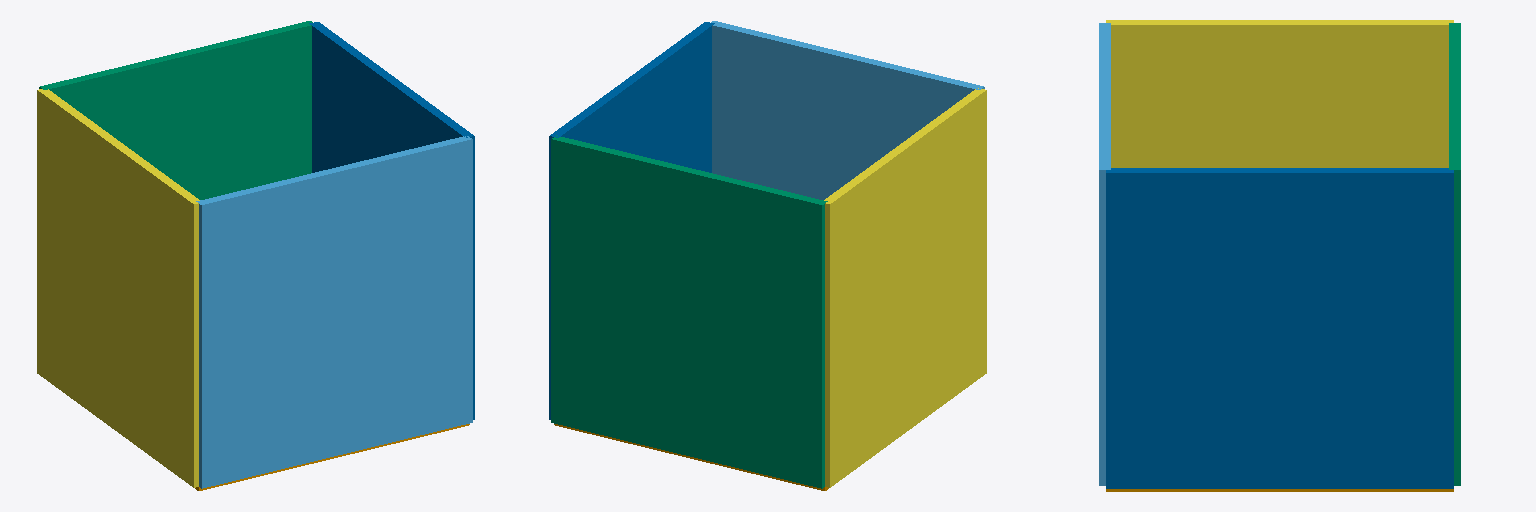
URDF robot description (hollow_box_with_centered_cuboid):
<?xml version="1.0"?>
<robot name="hollow_box_with_centered_cuboid">
  <!-- Base panel -->
  <link name="base_panel">
    <visual>
      <geometry>
        <box size="1.5 1.5 0.05"/>
      </geometry>
    </visual>
  </link>

  <!-- Definition of the side panels -->
  <!-- Each side panel is defined with a slight thickness (0.05 units) -->
  <!-- The panels are positioned to form the sides of the box -->

  <!-- Front panel -->
  <link name="front_panel">
    <visual>
      <geometry>
        <box size="1.5 0.05 1.5"/>
      </geometry>
    </visual>
  </link>

  <!-- Back panel -->
  <link name="back_panel">
    <visual>
      <geometry>
        <box size="1.5 0.05 1.5"/>
      </geometry>
    </visual>
  </link>

  <!-- Left panel -->
  <link name="left_panel">
    <visual>
      <geometry>
        <box size="0.05 1.5 1.5"/>
      </geometry>
    </visual>
  </link>

  <!-- Right panel -->
  <link name="right_panel">
    <visual>
      <geometry>
        <box size="0.05 1.5 1.5"/>
      </geometry>
    </visual>
  </link>
  <!-- Centered cuboid -->
  <link name="centered_cuboid">
    <visual>
      <geometry>
        <box size="0.25 0.25 0.25"/>
      </geometry>
      <material name="blue">
        <color rgba="0.9 0.2 0.1 1"/>
      </material>
    </visual>
  </link>

  <!-- Adjusted joint for the centered cuboid to rest at the base -->
  <joint name="cuboid_joint" type="fixed">
    <parent link="base_panel"/>
    <child link="centered_cuboid"/>
    <!-- Since we want the cuboid to rest on the base, the z-value is half the height of the cuboid -->
    <origin xyz="0 0 0.25" rpy="0 0 0"/>
  </joint>
  <!-- Fixed joints to position the panels relative to the base panel -->
  <!-- Each joint positions and orients a side panel to form the box -->

  <joint name="front_joint" type="fixed">
    <parent link="base_panel"/>
    <child link="front_panel"/>
    <origin xyz="0 -0.7525 0.75" rpy="0 0 0"/>
  </joint>

  <joint name="back_joint" type="fixed">
    <parent link="base_panel"/>
    <child link="back_panel"/>
    <origin xyz="0 0.7525 0.75" rpy="0 0 0"/>
  </joint>

  <joint name="left_joint" type="fixed">
    <parent link="base_panel"/>
    <child link="left_panel"/>
    <origin xyz="-0.7525 0 0.75" rpy="0 0 0"/>
  </joint>

  <joint name="right_joint" type="fixed">
    <parent link="base_panel"/>
    <child link="right_panel"/>
    <origin xyz="0.7525 0 0.75" rpy="0 0 0"/>
  </joint>
</robot>

--- Render facts (derived) ---
Views: 3 orthographic renders of the robot side by side, from view 1: azimuth 30°, elevation 25°; view 2: azimuth 150°, elevation 25°; view 3: azimuth 270°, elevation 25°.
Model hollow_box_with_centered_cuboid with 6 links and 5 joints (5 fixed), rooted at base_panel, posed every joint at zero.
Visible links, largest first — view 1: front_panel, left_panel, back_panel, right_panel, base_panel; view 2: back_panel, left_panel, front_panel, right_panel, base_panel; view 3: right_panel, left_panel, front_panel, back_panel, base_panel.
Link boxes in pixels (left/top/right/bottom): front_panel: left=196, top=136, right=472, bottom=488; left_panel: left=37, top=89, right=199, bottom=487; back_panel: left=39, top=21, right=312, bottom=199; right_panel: left=309, top=22, right=474, bottom=419; base_panel: left=195, top=424, right=469, bottom=490; back_panel: left=551, top=135, right=827, bottom=488; left_panel: left=824, top=88, right=986, bottom=487; front_panel: left=711, top=21, right=984, bottom=199; right_panel: left=549, top=22, right=714, bottom=419; base_panel: left=554, top=424, right=828, bottom=490; right_panel: left=1106, top=168, right=1453, bottom=488; left_panel: left=1106, top=20, right=1453, bottom=167; front_panel: left=1099, top=23, right=1110, bottom=485; back_panel: left=1449, top=23, right=1460, bottom=485; base_panel: left=1106, top=489, right=1453, bottom=491.
Bounding box of the posed robot: 1.55 × 1.55 × 1.52 m (x, y, z).
Geometry: primitives only (box / cylinder / sphere), no mesh files.